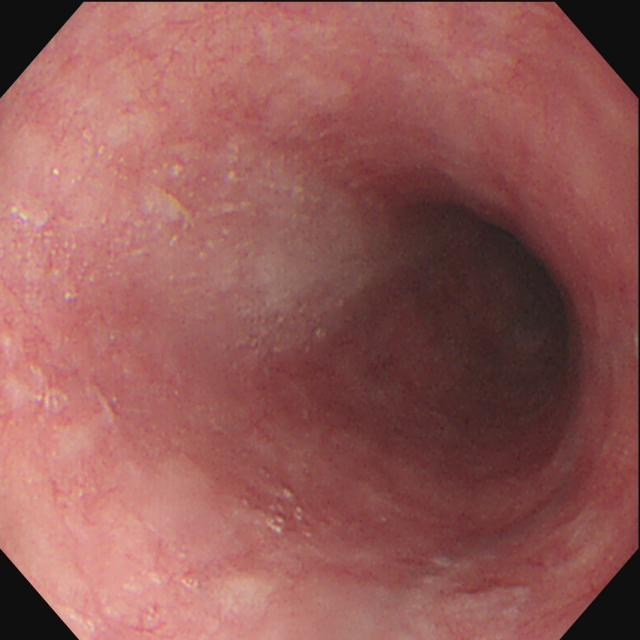E: (446, 179, 588, 424)
J: (145, 142, 395, 336), (424, 555, 532, 622), (266, 487, 305, 534)
